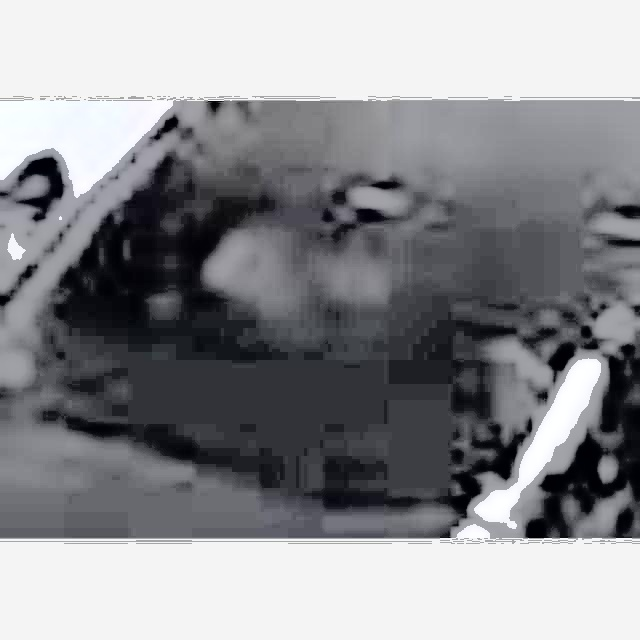tidak-pakai: (194, 174, 405, 385)
